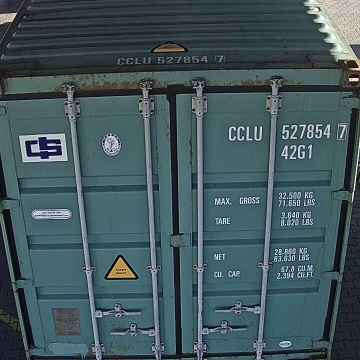serial_id: (229, 123, 347, 140)
